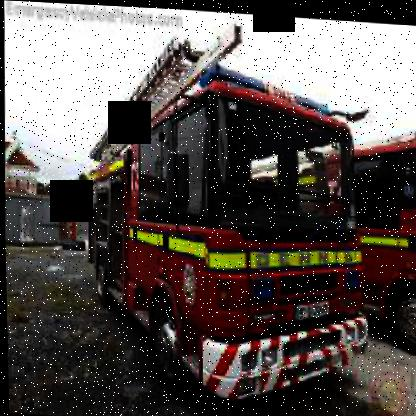emergency: (73, 8, 379, 414), (327, 84, 415, 358)
